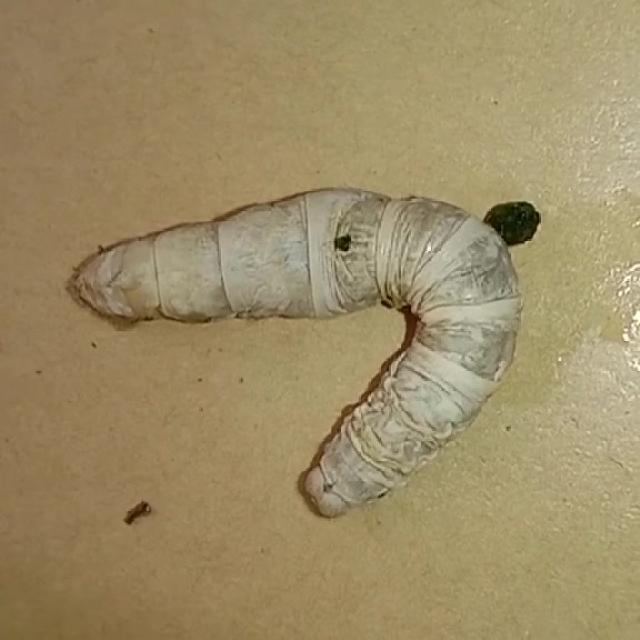Grasserie: (55, 174, 531, 530)
